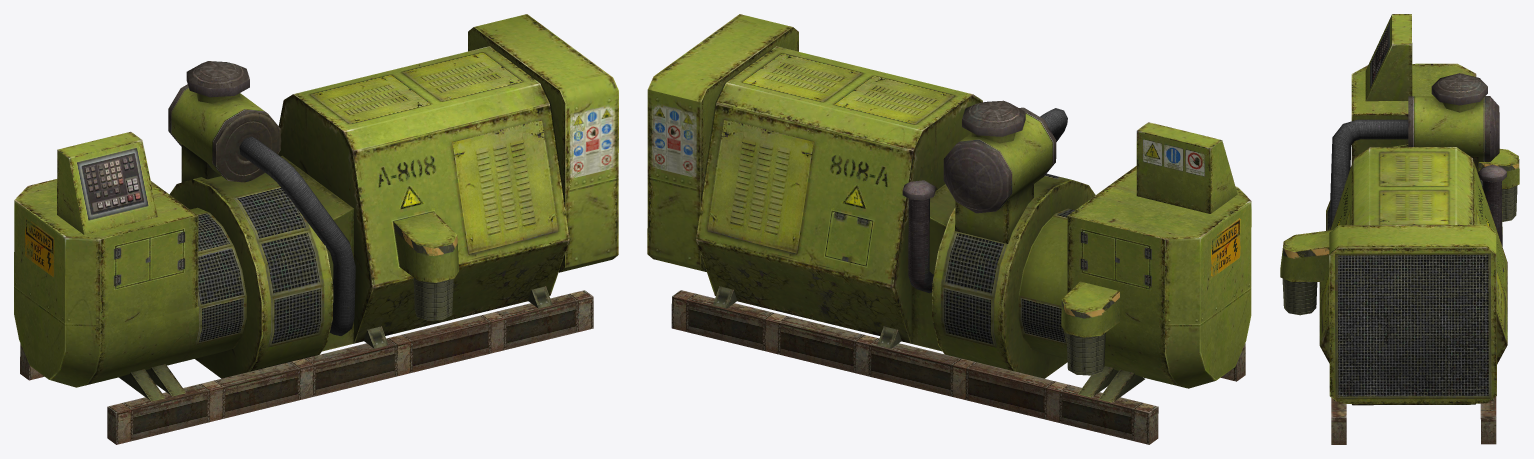
Rendered from electric_energy_plant.glb.
3 views of the same model, side by side, from view 1: azimuth 30°, elevation 25°; view 2: azimuth 150°, elevation 25°; view 3: azimuth 270°, elevation 25° (orthographic). The views are drawn at different scales.
Parts seen in each view (by area): view 1: Object_2; view 2: Object_2; view 3: Object_2.
Part boxes in pixels (left/top/right/bottom): Object_2: left=14, top=14, right=618, bottom=444; Object_2: left=647, top=14, right=1251, bottom=444; Object_2: left=1280, top=14, right=1519, bottom=444.
Bounding box in the file's own units: 2.32 × 1.17 × 1.06.
Materials: 1 (1 with a texture image).
